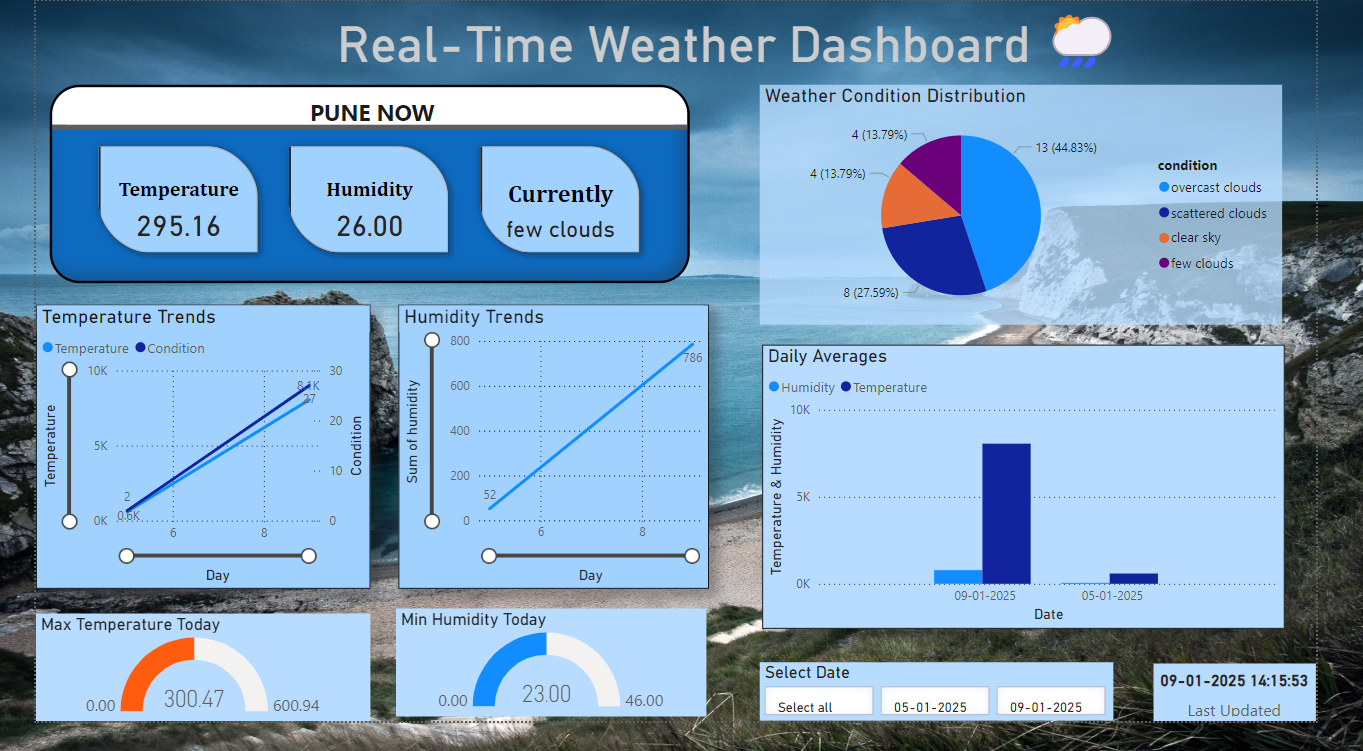

The dashboard page shown, as its layout file describes it:
{"tool":"powerbi","page":{"name":"Page 1","canvas":[1280,720],"ordinal":0},"visuals":[{"type":"lineChart","title":"Temperature Trends","fields":{"Category":["public weather.timestamp.Variation.Date Hierarchy.Day"],"Y":["Sum(public weather.temperature)"],"Y2":["CountNonNull(public weather.condition)"]},"box":[0,304,334,284],"z":0},{"type":"lineChart","title":"Humidity Trends","fields":{"Category":["public weather.timestamp.Variation.Date Hierarchy.Day"],"Y":["Sum(public weather.humidity)"]},"box":[362,304,310,284],"z":1000},{"type":"cardVisual","title":"PUNE  NOW ","fields":{"Data":["Sum(public weather.temperature)","Sum(public weather.humidity)","Min(public weather.condition)"]},"box":[14,84,640,198],"z":2000},{"type":"pieChart","title":"Weather Condition Distribution","fields":{"Category":["public weather.condition"],"Y":["CountNonNull(public weather.condition)"]},"box":[724,84,522,240],"z":3000},{"type":"gauge","fields":{"Y":["public weather.Max Temperature Today"]},"box":[0,612,334,108],"z":4000},{"type":"gauge","fields":{"Y":["public weather.Min Humidity Today"]},"box":[360,608,310,108],"z":5000},{"type":"card","fields":{"Values":["public weather.Latest Timestamp"]},"box":[1118,662,162,58],"z":6000},{"type":"clusteredColumnChart","title":"Daily Averages","fields":{"Y":["Sum(public weather.humidity)","Sum(public weather.temperature)"],"Category":["public weather.Date"]},"box":[726,344,522,284],"z":7000},{"type":"textbox","title":"Real-Time Weather Dashboard 🌦️","box":[296.7,0,821.7,66.7],"z":8000},{"type":"advancedSlicerVisual","fields":{"Values":["public weather.Date"]},"box":[723.3,661.7,353.3,58.3],"z":8001}]}

Visuals, with their boxes in screenshot pixels (x1, y1, x2, y2), scaled from the page's 1280x720 canvas onto the 1363x751 screenshot:
"Temperature Trends" lineChart: bbox=(0, 317, 356, 613)
"Humidity Trends" lineChart: bbox=(385, 317, 716, 613)
"PUNE  NOW " cardVisual: bbox=(15, 88, 696, 294)
"Weather Condition Distribution" pieChart: bbox=(771, 88, 1327, 338)
gauge - public weather.Max Temperature Today: bbox=(0, 638, 356, 750)
gauge - public weather.Min Humidity Today: bbox=(383, 634, 713, 747)
card - public weather.Latest Timestamp: bbox=(1190, 691, 1362, 750)
"Daily Averages" clusteredColumnChart: bbox=(773, 359, 1329, 655)
"Real-Time Weather Dashboard 🌦️" textbox: bbox=(316, 0, 1191, 70)
advancedSlicerVisual - public weather.Date: bbox=(770, 690, 1146, 750)
